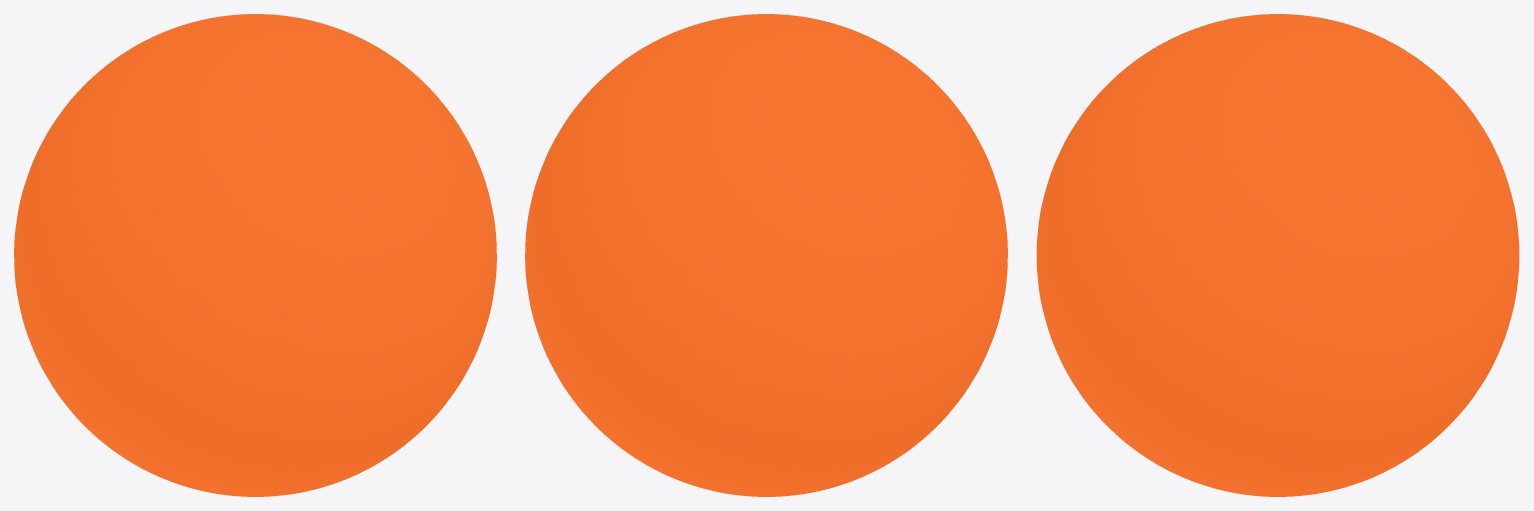
The model's file is yes.glb.
The picture shows the model from 3 angles, left to right: view 1: azimuth 30°, elevation 25°; view 2: azimuth 150°, elevation 25°; view 3: azimuth 270°, elevation 25°; orthographic projection.
Parts seen in each view (by area): view 1: Sphere.001; view 2: Sphere.001; view 3: Sphere.001.
Boxes of the visible parts, bbox=[...] form: Sphere.001: bbox=[14, 14, 496, 496]; Sphere.001: bbox=[525, 14, 1007, 496]; Sphere.001: bbox=[1036, 14, 1519, 496].
Bounding box in the file's own units: 2 × 2 × 2.
